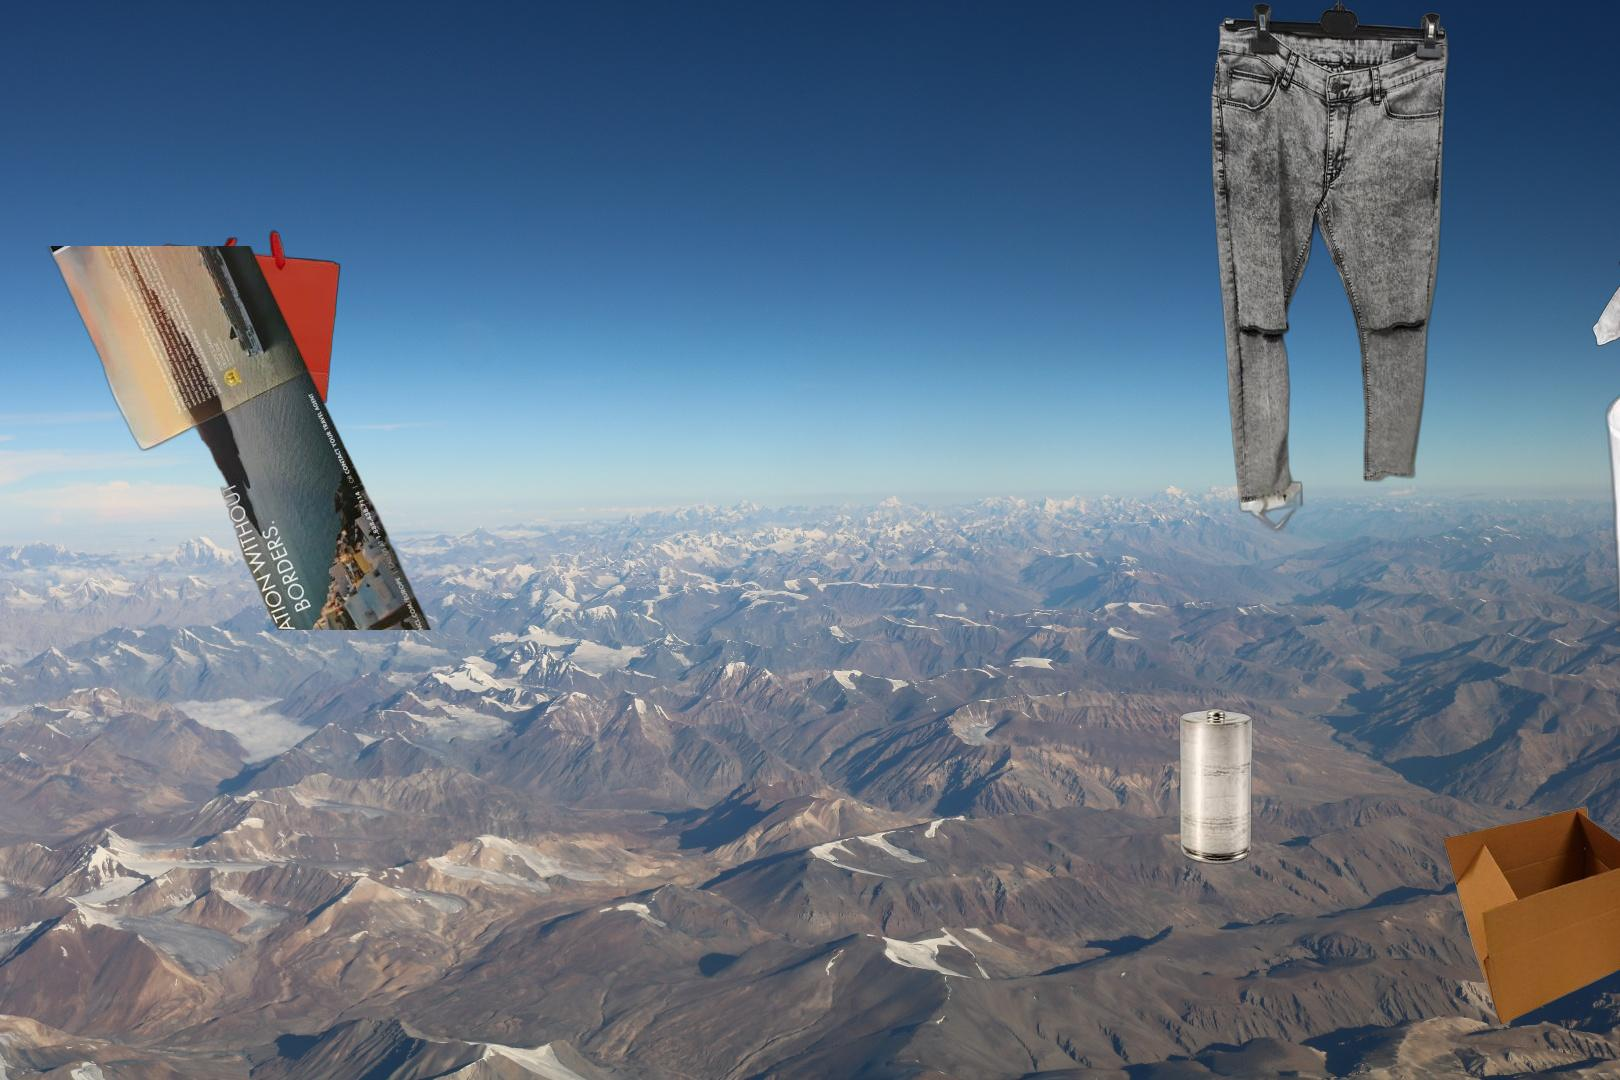battery: (1176, 706, 1255, 867)
clothes: (1207, 0, 1452, 534)
paper: (43, 246, 435, 630)
paper-bag: (146, 228, 344, 406)
penholder: (1600, 374, 1620, 865)
plastic-bag: (1589, 212, 1620, 413)
trashbox-cardboard: (1440, 803, 1620, 1028)
